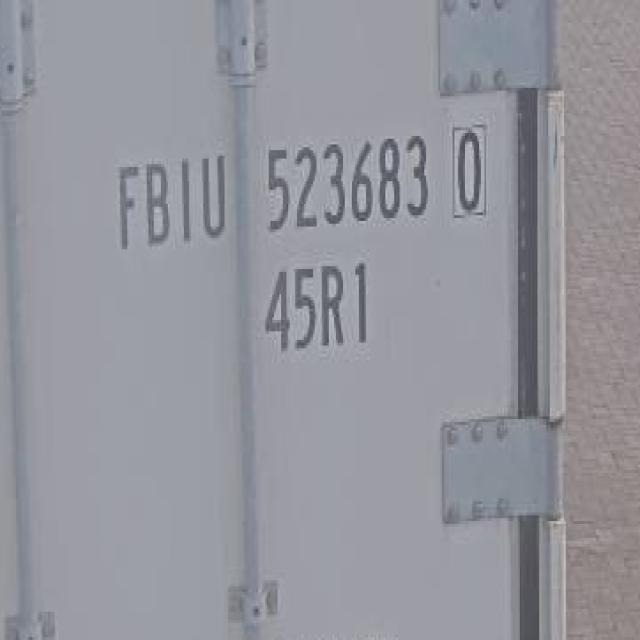dv: (448, 115, 492, 228)
owner: (99, 138, 234, 258)
serial: (260, 119, 433, 239)
size: (258, 254, 382, 361)
